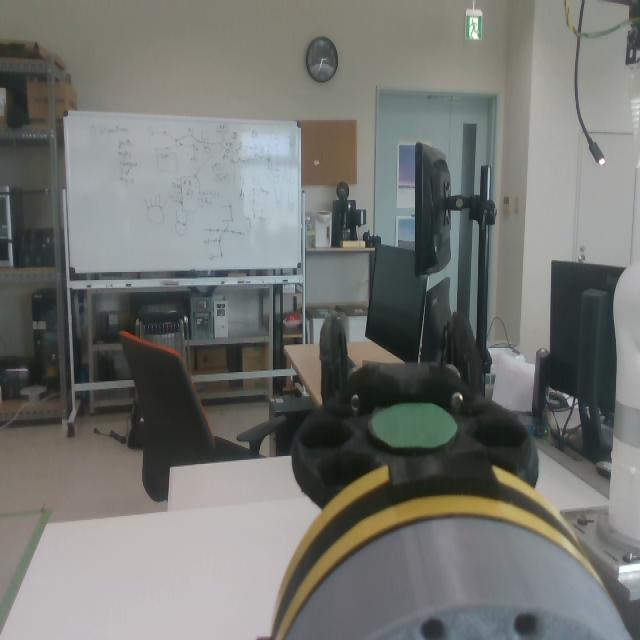body_connector: (281, 516, 640, 640)
connection: (258, 454, 640, 640)
leg: (266, 313, 601, 640)
leg_connector: (257, 451, 594, 639)
marker: (371, 402, 459, 449)
